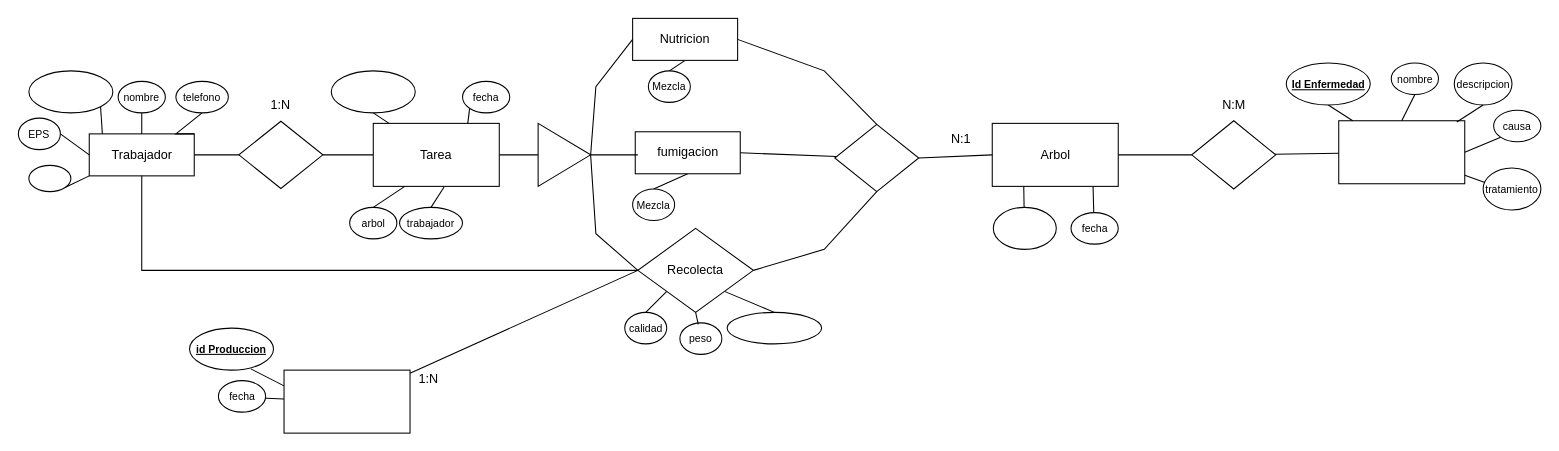
This 1559x451 diagram has some shape labels left out. Each missing label, with the box of its shape:
ARL: (28, 164, 71, 192)
d ocumento de Identidad: (28, 70, 113, 113)
Enfermedad: (1338, 120, 1465, 184)
Id Arbol: (992, 206, 1056, 249)
Id Tarea: (330, 70, 415, 113)
id_produccion: (726, 311, 822, 344)
posee: (834, 123, 919, 192)
Presenta: (1191, 120, 1276, 189)
Producción: (283, 369, 410, 433)
Realiza: (238, 120, 323, 188)
